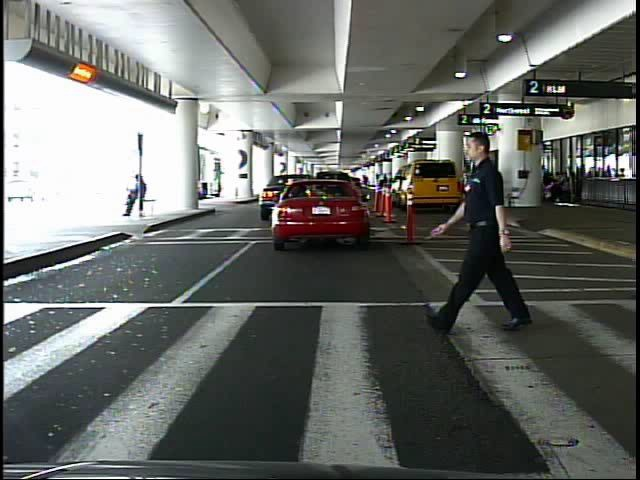person: (443, 121, 531, 335)
